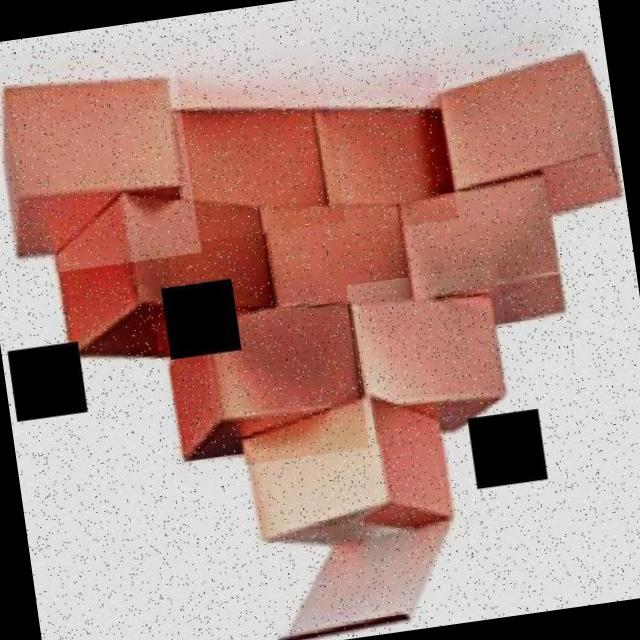box: (222, 371, 474, 640), (34, 168, 285, 382), (0, 55, 201, 280), (154, 296, 370, 475), (427, 40, 622, 228), (392, 167, 582, 359), (162, 47, 345, 244), (346, 264, 520, 446), (302, 51, 458, 238), (264, 190, 410, 313)
